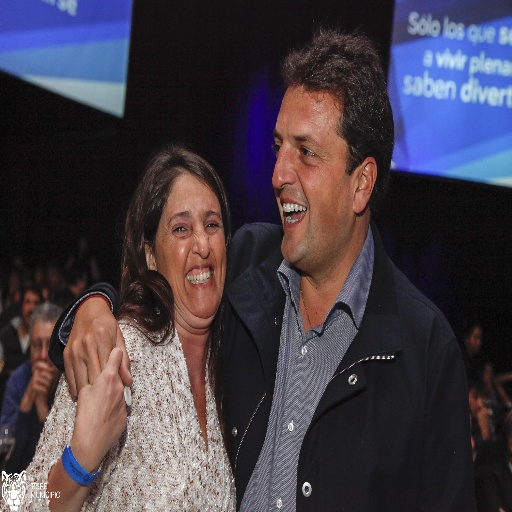hand: (62, 293, 133, 402), (27, 362, 53, 403), (34, 359, 49, 400)
